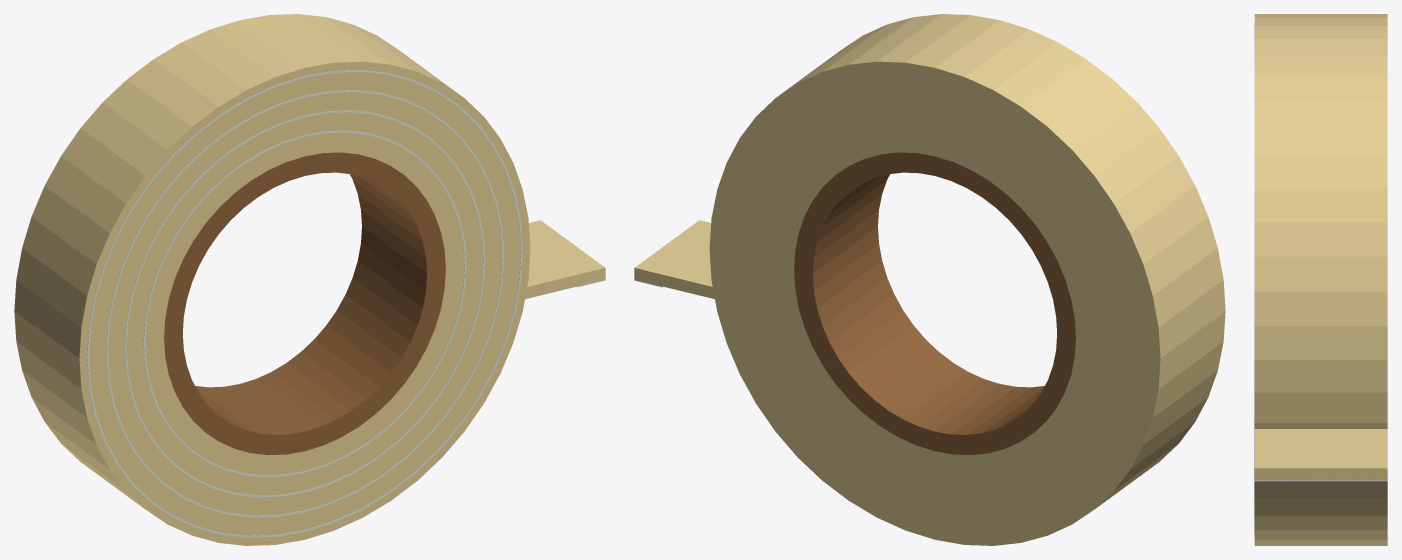
Rendered from double_sided_tape.obj.
3 renders of one model, left to right at view 1: azimuth 30°, elevation 25°; view 2: azimuth 150°, elevation 25°; view 3: azimuth 270°, elevation 25°, orthographic. The views are drawn at different scales.
Parts seen in each view (by area): view 1: double_sided_tape; view 2: double_sided_tape; view 3: double_sided_tape.
Boxes of the visible parts, x1=… form: double_sided_tape: x1=14, y1=14, x2=605, y2=545; double_sided_tape: x1=634, y1=14, x2=1225, y2=545; double_sided_tape: x1=1254, y1=14, x2=1387, y2=545.
Bounding box in the file's own units: 2 × 1.71 × 0.43.
